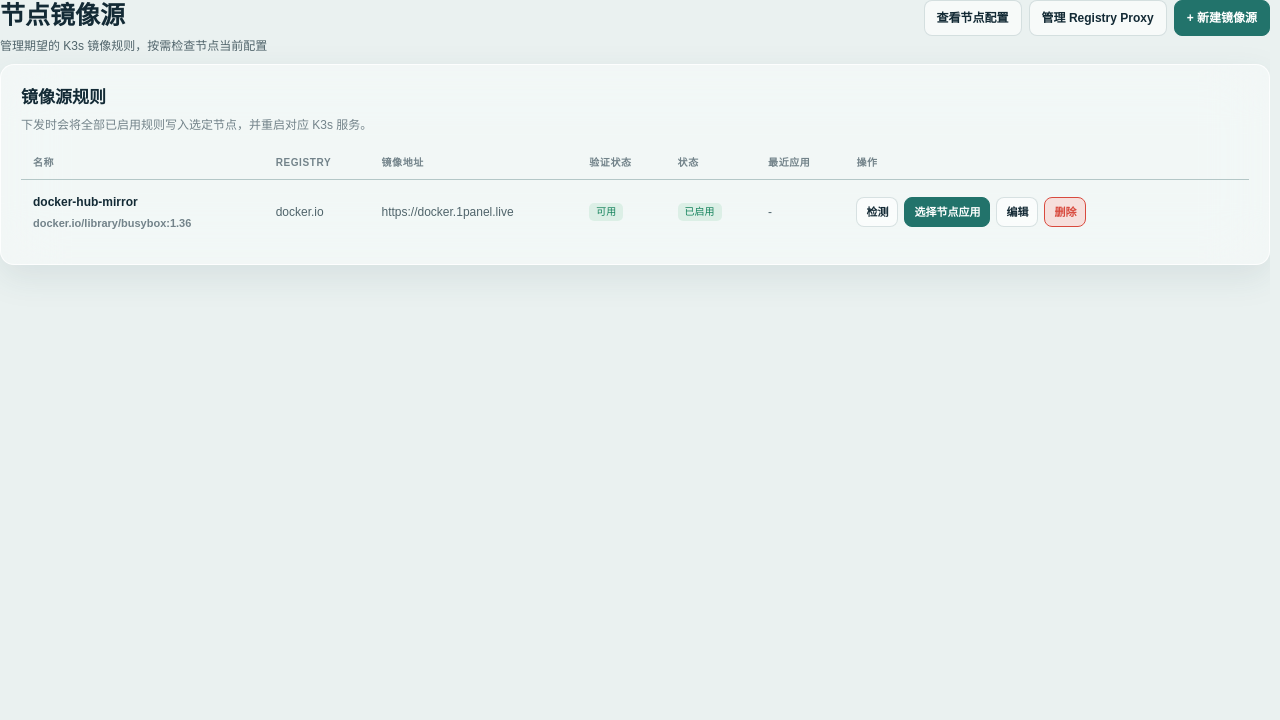
it: Node registry mirrors view › explains that application writes the complete enabled configuration
The image size is (1280, 720).
Click the button with test id "apply-node-registry-mirror-1" at (947, 212), box top-left (904, 197), bottom-right (990, 227)
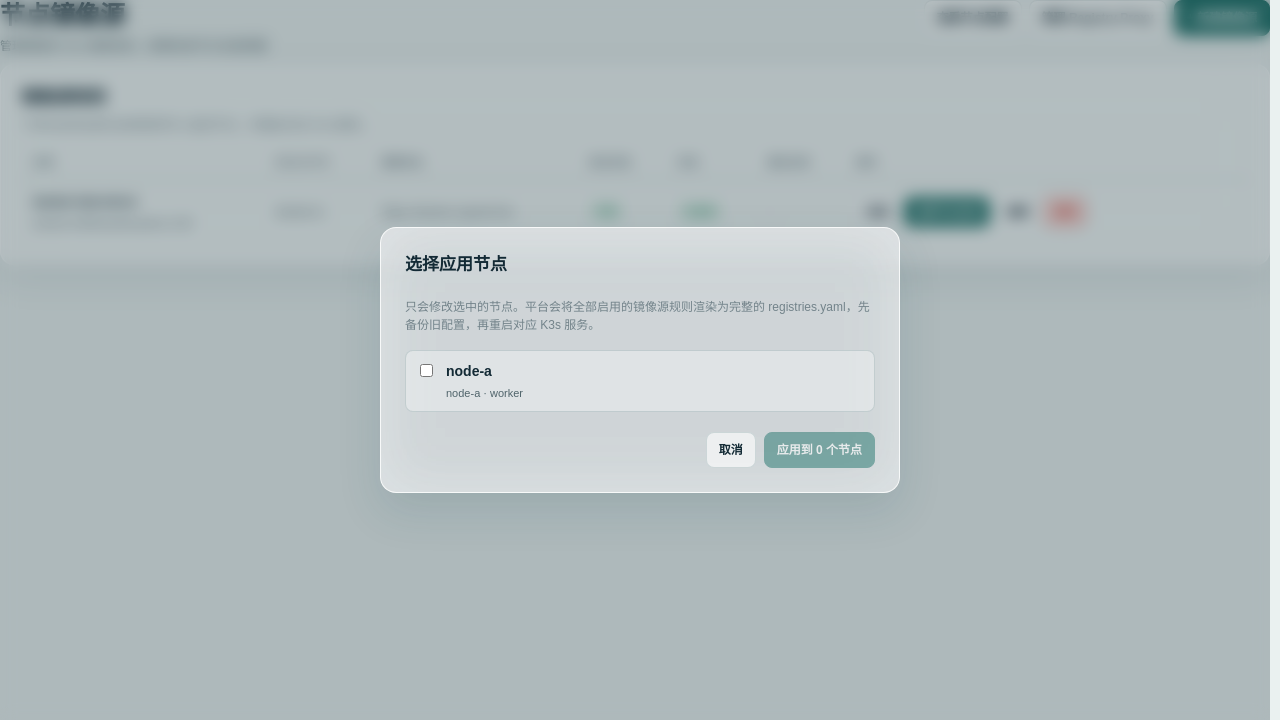
expect the text "全部启用的镜像源规则" is shown: met, box top-left (405, 300), bottom-right (870, 332)
expect the text "完整的 registries.yaml" is shown: met, box top-left (405, 300), bottom-right (870, 332)
